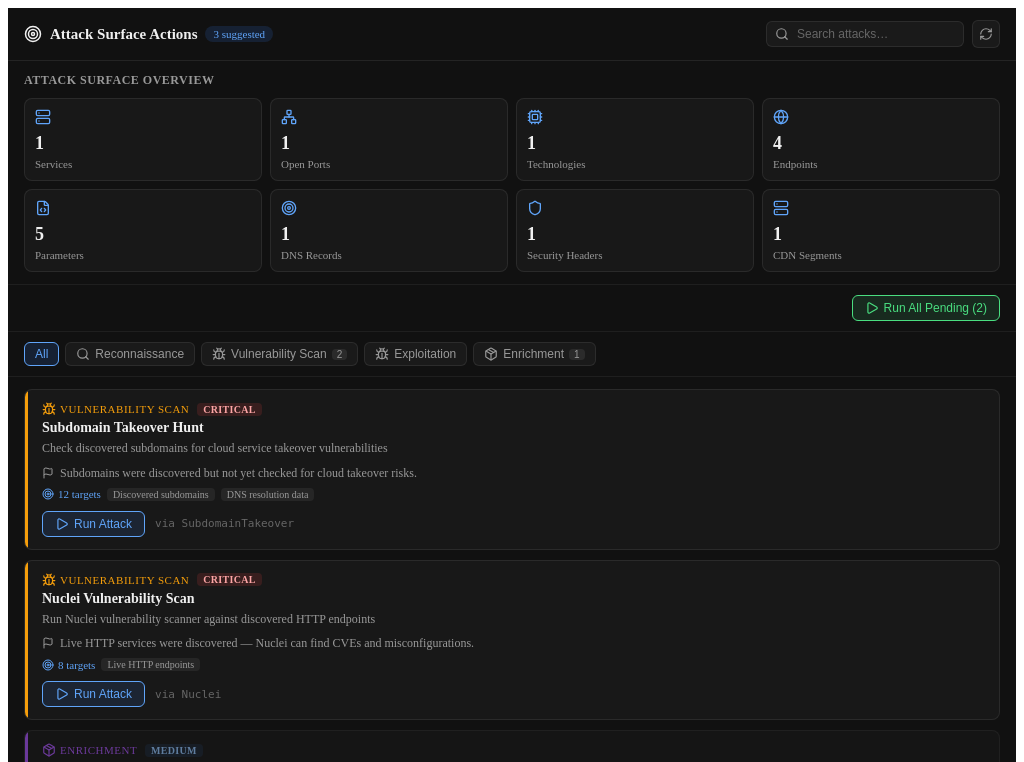
Test: AttackPanel › search filters suggestions by title and description
The image size is (1024, 762).
Expected: the heading "Subdomain Takeover Hunt" is shown, [42,420,204,435]
Type "nuclei" into the field named "search attack suggestions" at (875, 34), box [795,26,955,42]
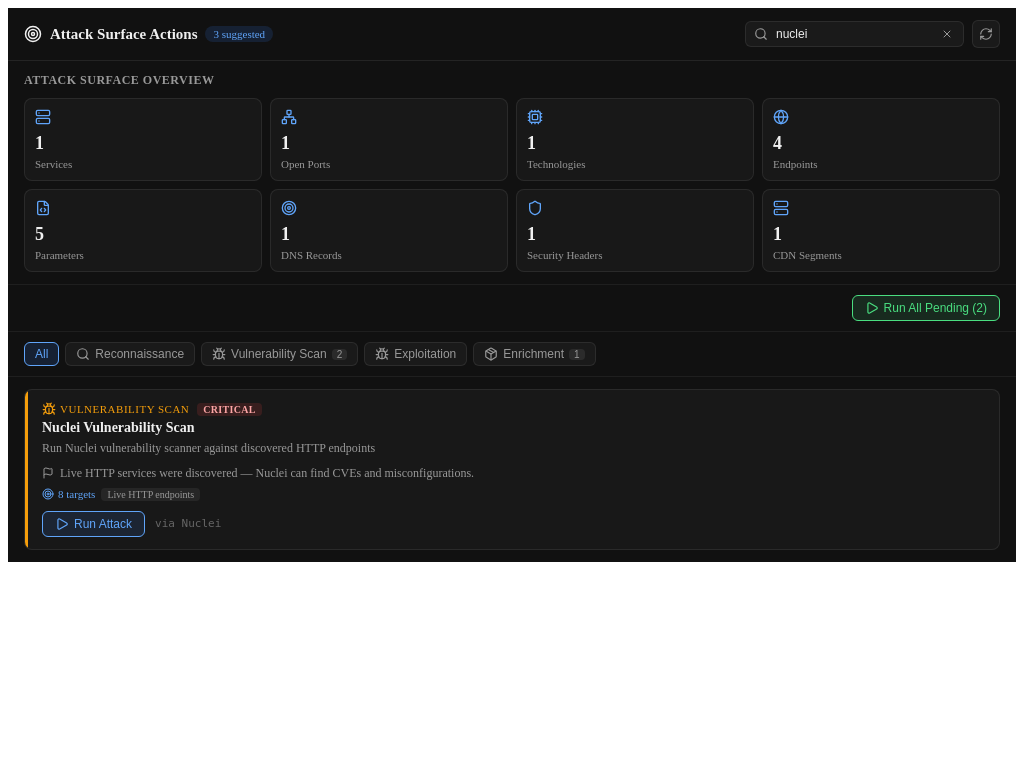
Expected: the heading "Nuclei Vulnerability Scan" is shown, [42,420,194,435]
Expected: the heading "Subdomain Takeover Hunt" is gone
Click the button named "clear search" at (947, 34), box [939,26,955,42]
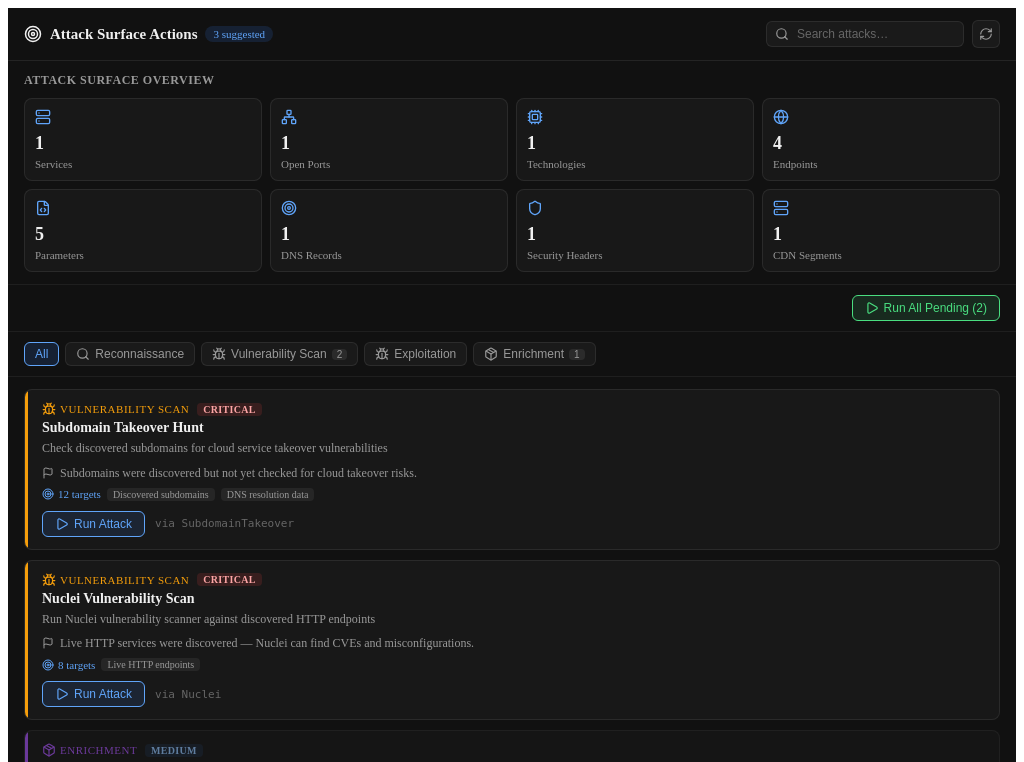
Expected: the heading "Subdomain Takeover Hunt" is shown, [42,420,204,435]
